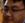without_mask: (1, 2, 25, 23)
